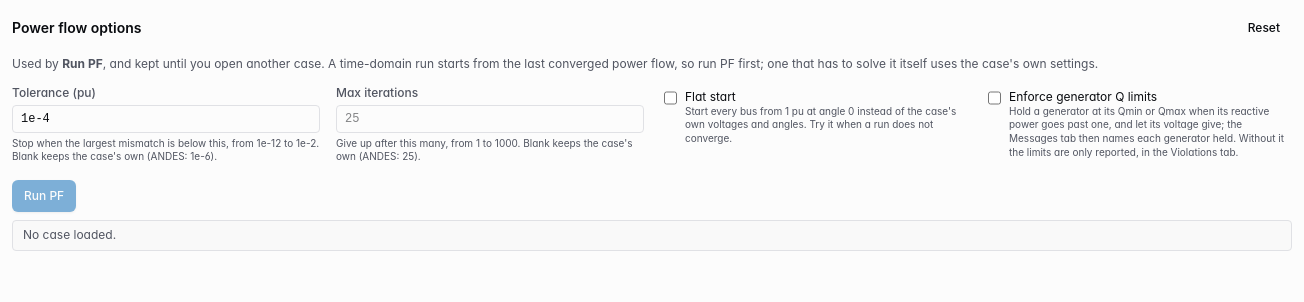
Test: <PflowOptionsForm /> fields › says what is wrong with a tolerance out of range, and does not send it
Replace the text in the field labelled "Tolerance (pu)" with "0.5" at (166, 118), box [12, 104, 320, 132]
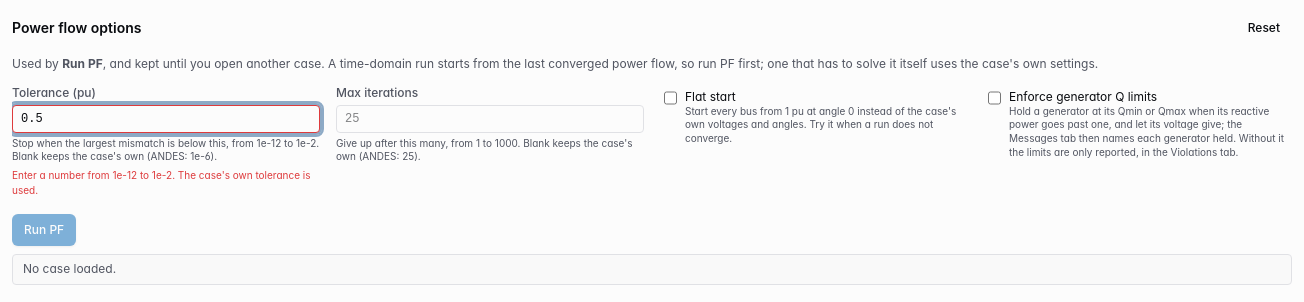
Result: the message with test id "error-pflow-tolerance" shows "1e-12 to 1e-2" at [12, 169, 311, 196]
Result: the message with test id "error-pflow-tolerance" shows "case's own tolerance is used" at [12, 169, 311, 196]
